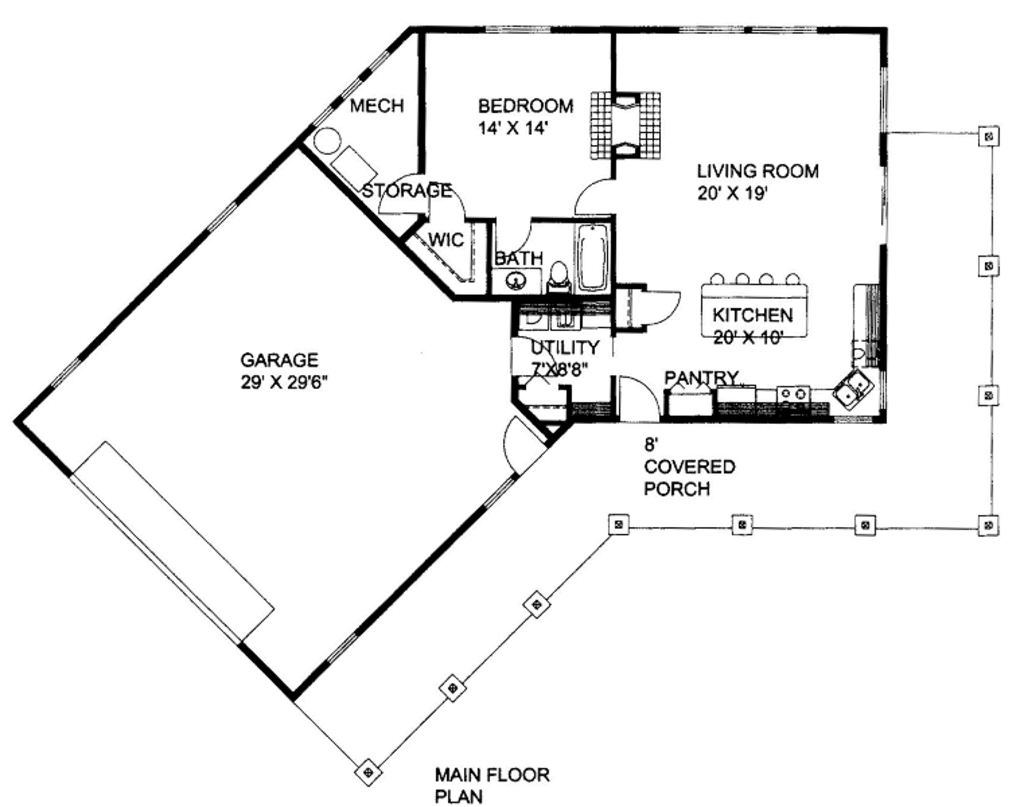door: (506, 323, 568, 379), (493, 415, 552, 473), (374, 172, 440, 221), (634, 283, 686, 345), (609, 370, 664, 423), (486, 211, 538, 259), (569, 169, 619, 214), (425, 177, 462, 219)
kitchen_bar: (688, 271, 818, 337)
large_sink: (546, 251, 574, 295)
small_sink: (487, 262, 541, 301)
twin_sink: (817, 361, 896, 426)
window: (315, 620, 376, 669), (191, 189, 249, 236), (41, 351, 95, 397), (676, 19, 752, 45), (871, 61, 891, 134), (485, 19, 553, 38), (752, 19, 810, 38)
